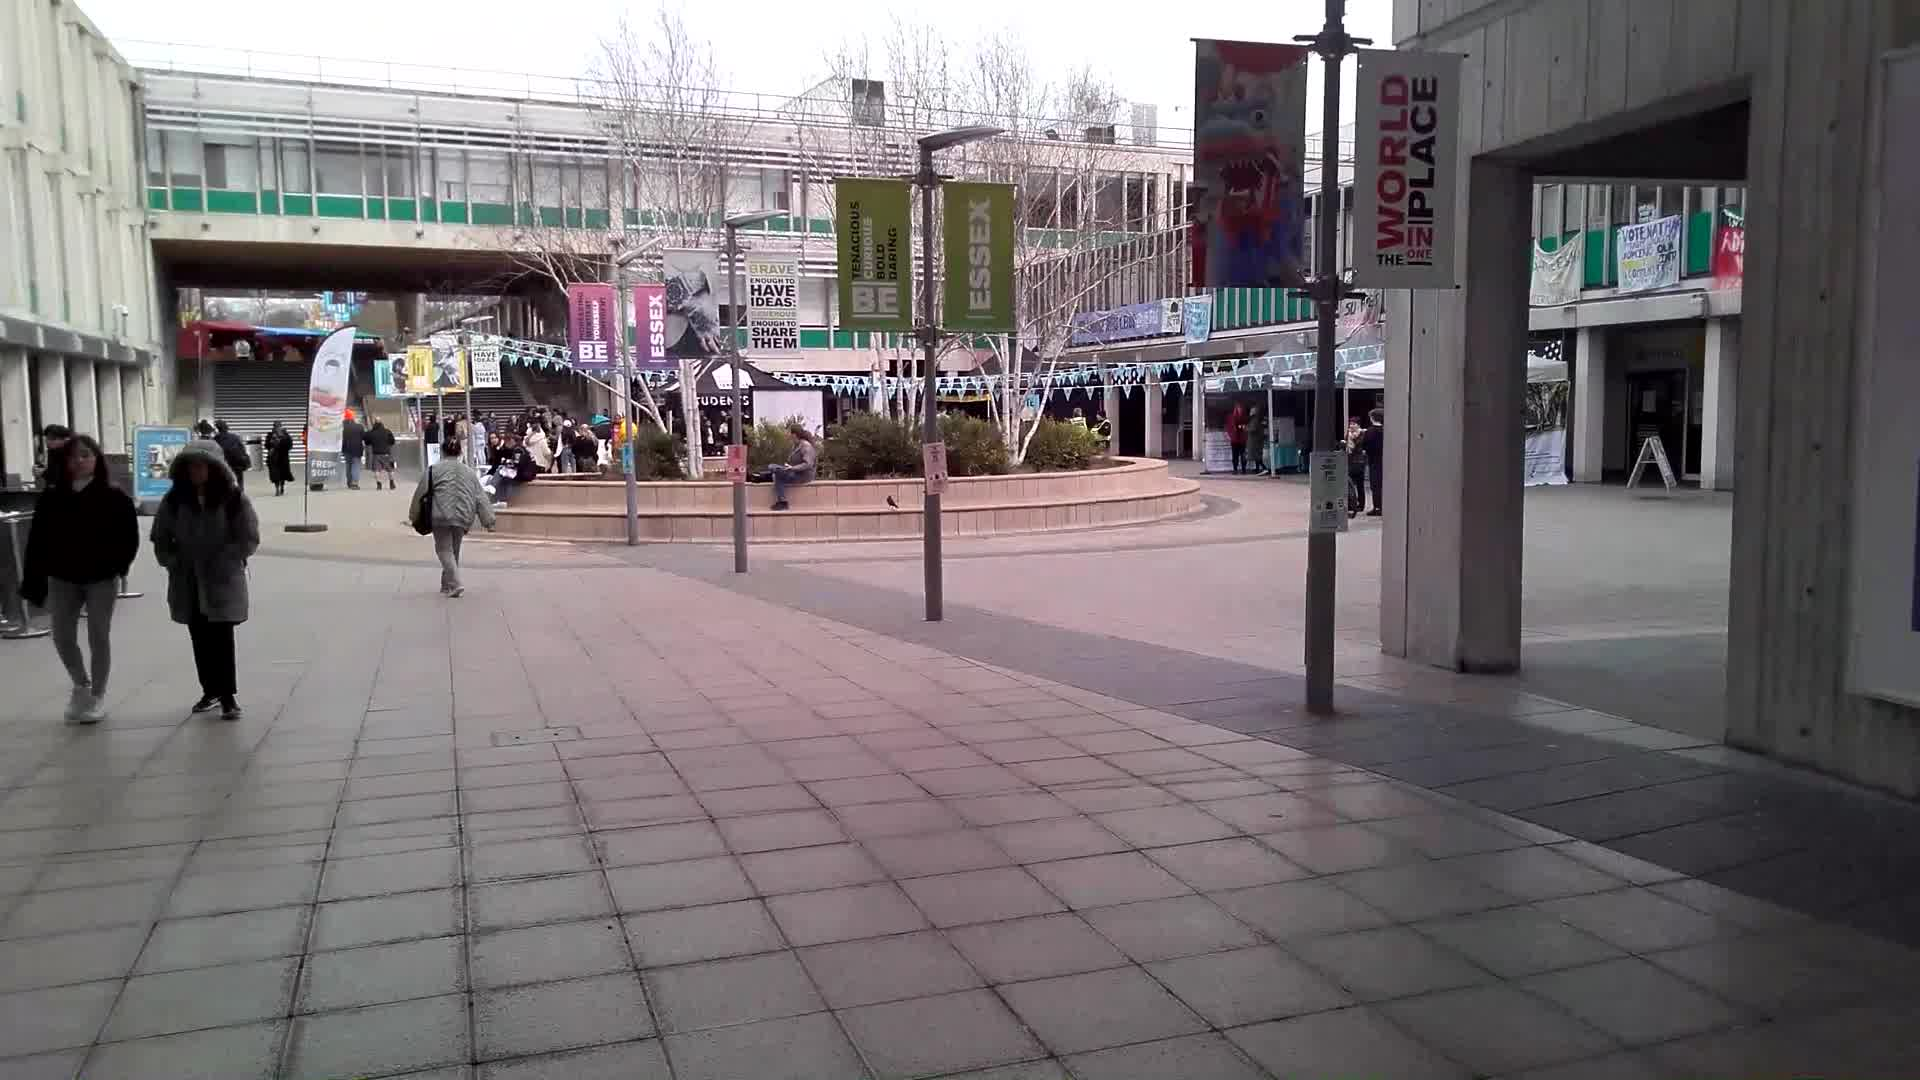Person: (148, 437, 265, 723), (40, 434, 133, 731), (421, 443, 477, 590), (768, 422, 822, 514)
